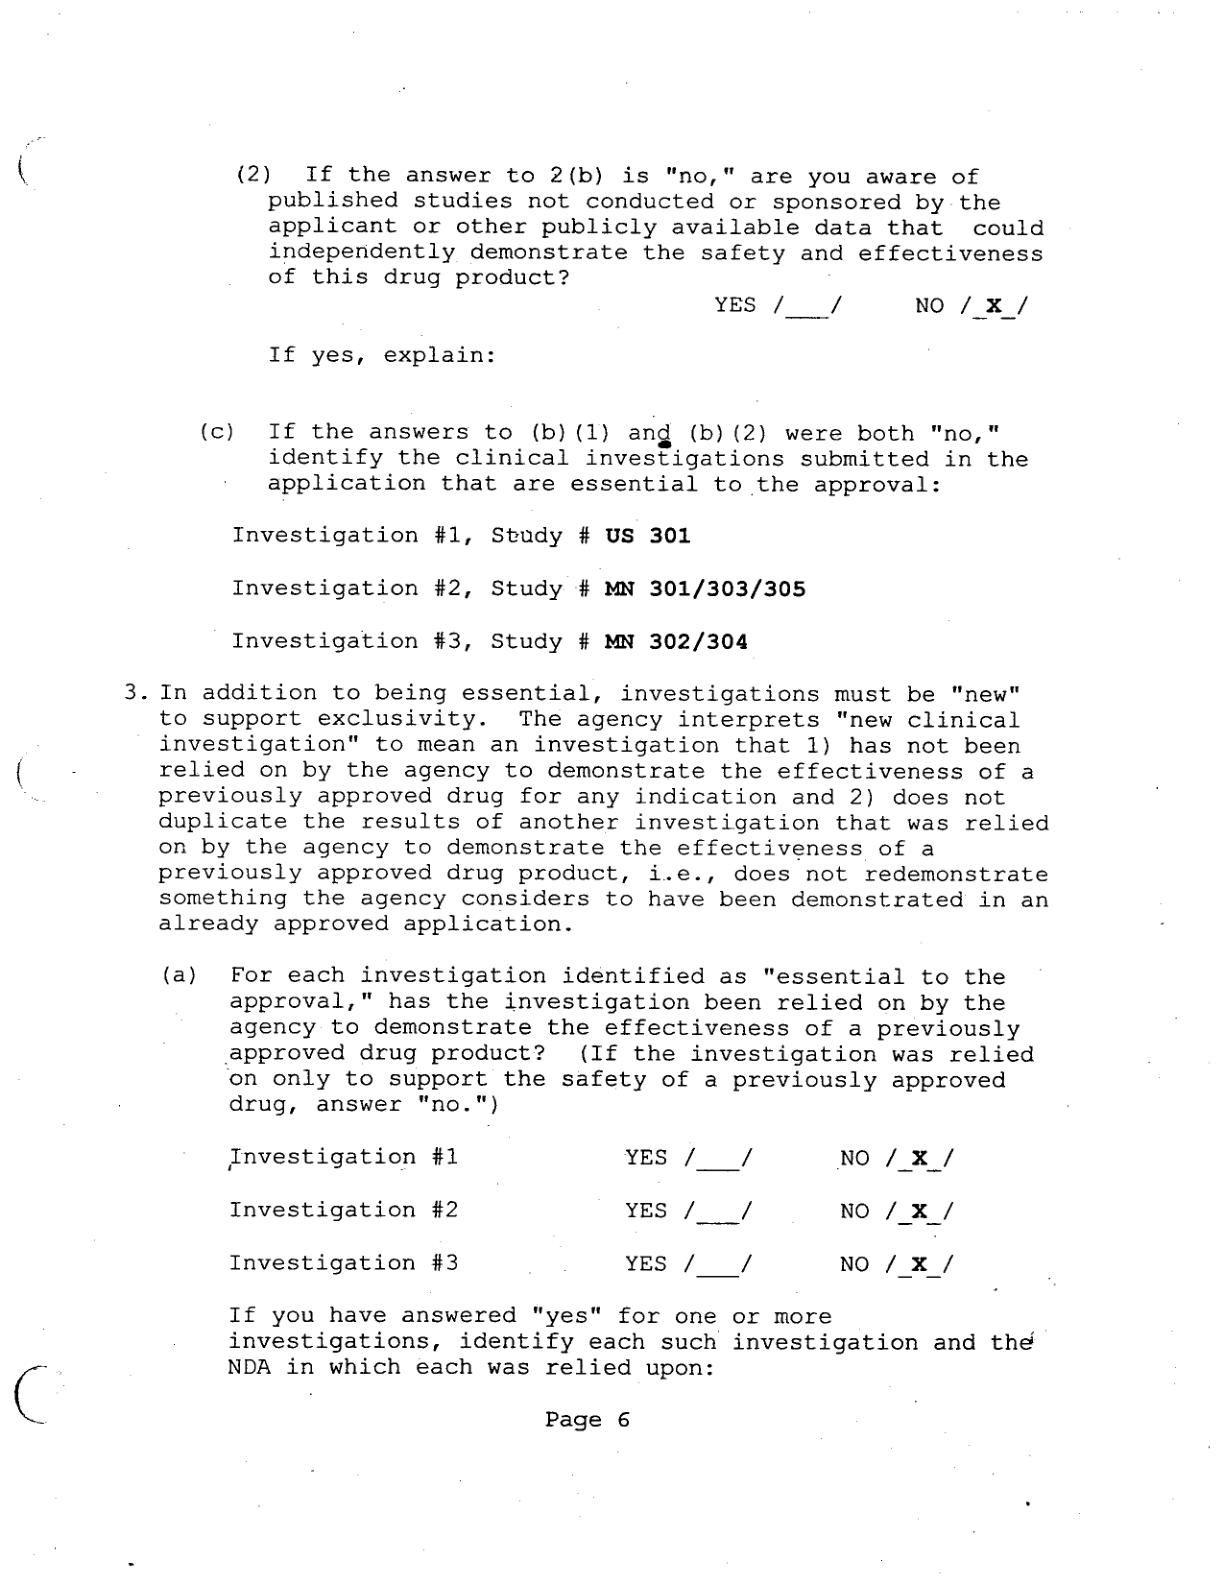nolines: (228, 1144, 959, 1283), (231, 525, 807, 654)
